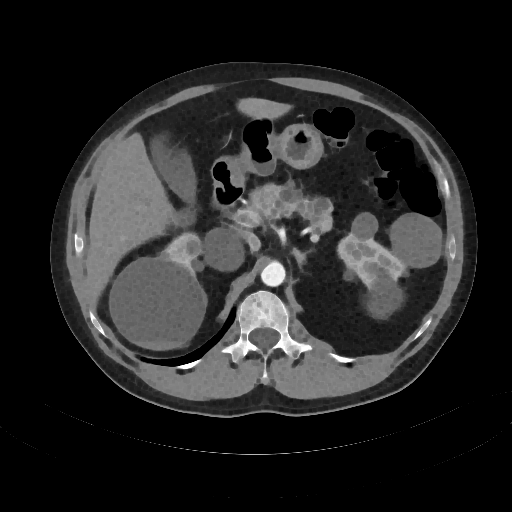Lesion: (105, 251, 212, 359)
